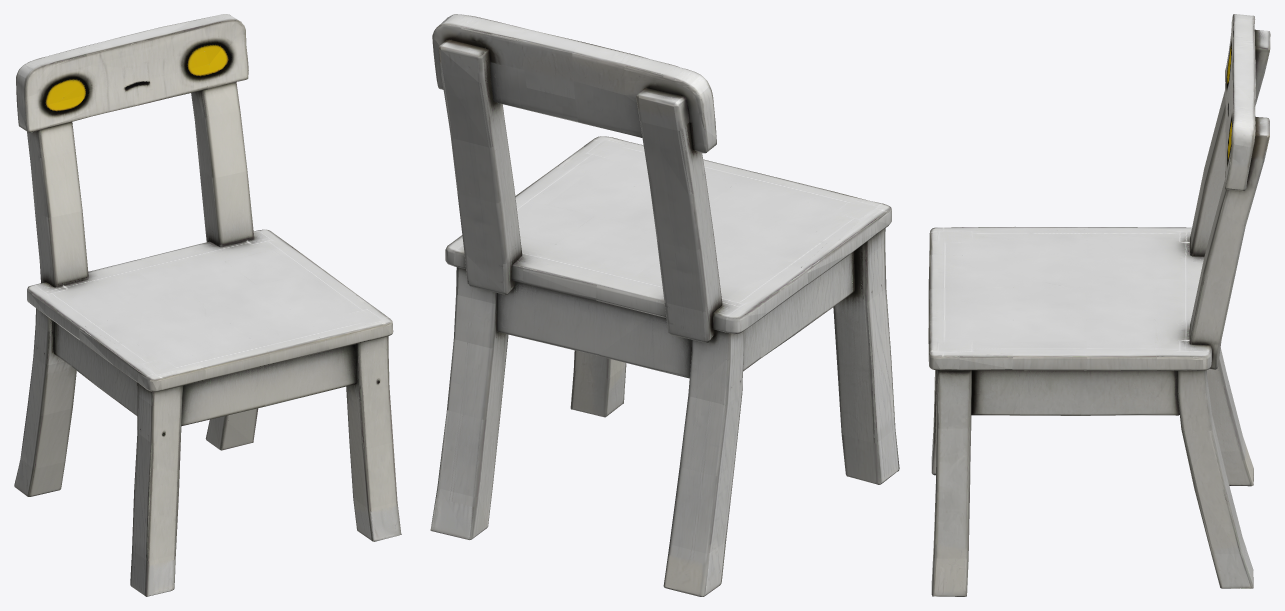
3 views of the same model, side by side, from view 1: azimuth 30°, elevation 25°; view 2: azimuth 150°, elevation 25°; view 3: azimuth 270°, elevation 25° (orthographic). The views are drawn at different scales.
Size of the model in its own units: 0.6325 by 1 by 0.6692.
1 material, 1 textured.
